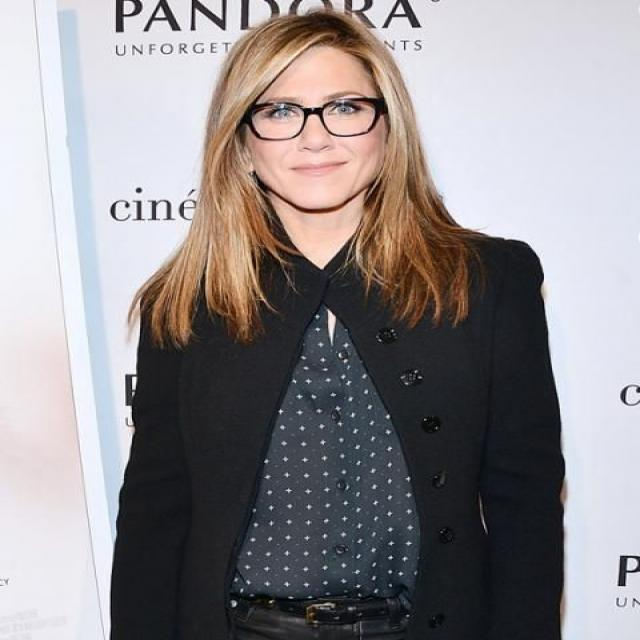Glasses: (243, 96, 386, 142)
